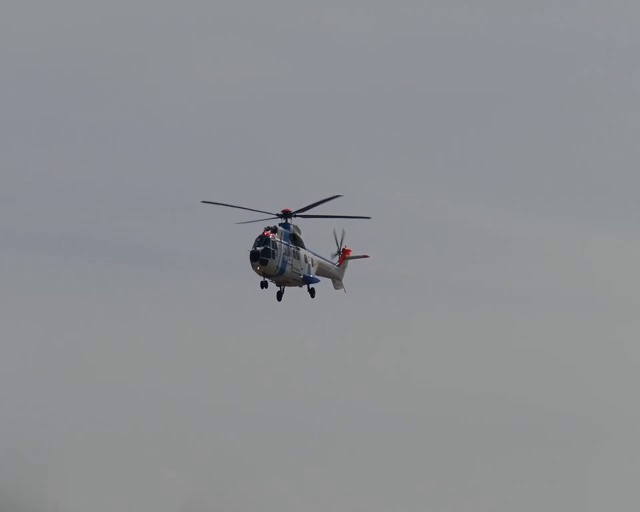HELICOPTER: (199, 194, 374, 302)
